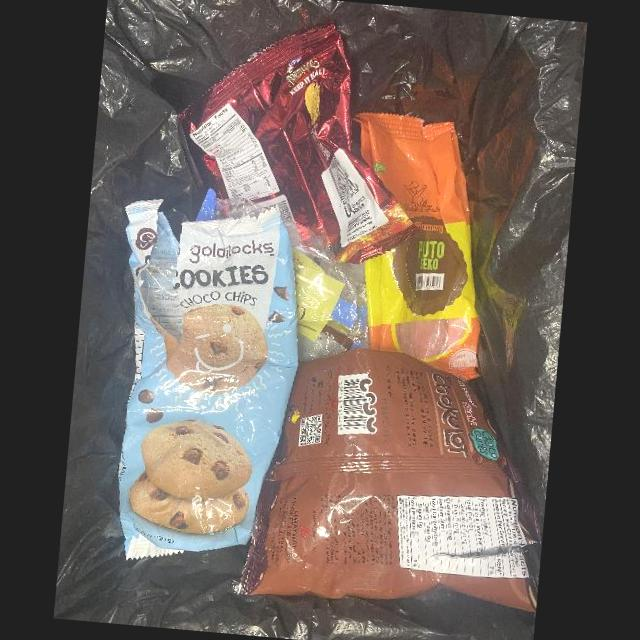bao_bi_thuc_pham: (233, 348, 538, 613), (117, 199, 298, 561), (177, 23, 418, 264), (353, 112, 481, 380)
